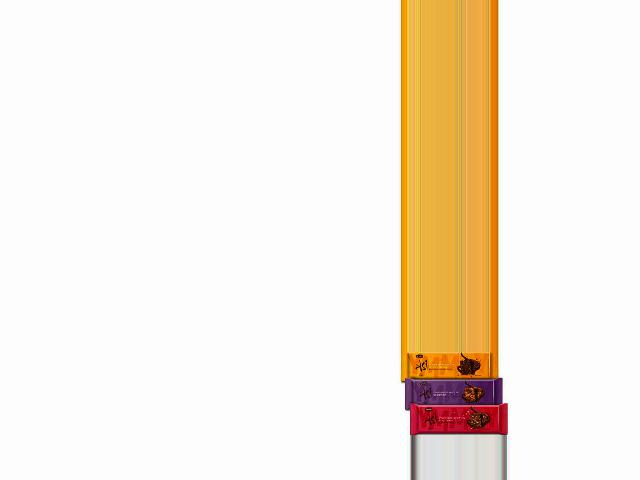chocolate: (405, 404, 513, 436)
